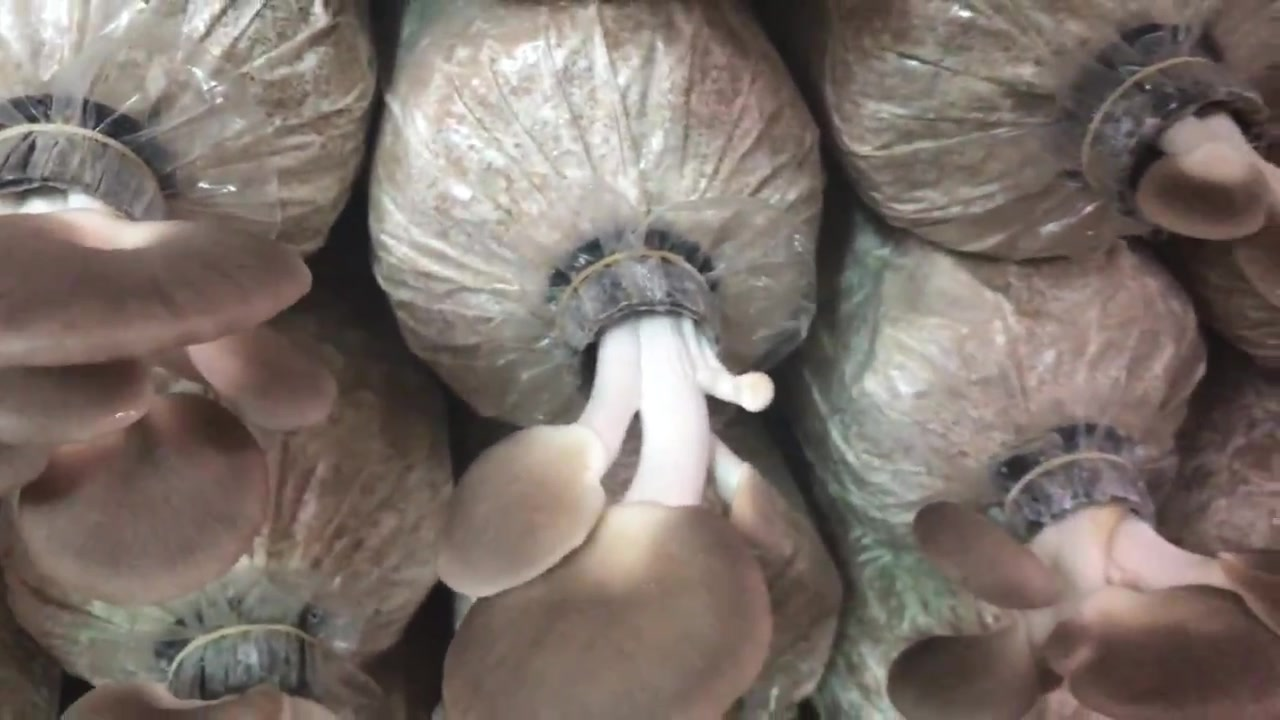nam: (444, 257, 800, 720), (1, 113, 336, 605), (885, 457, 1279, 720), (1092, 42, 1280, 241)
